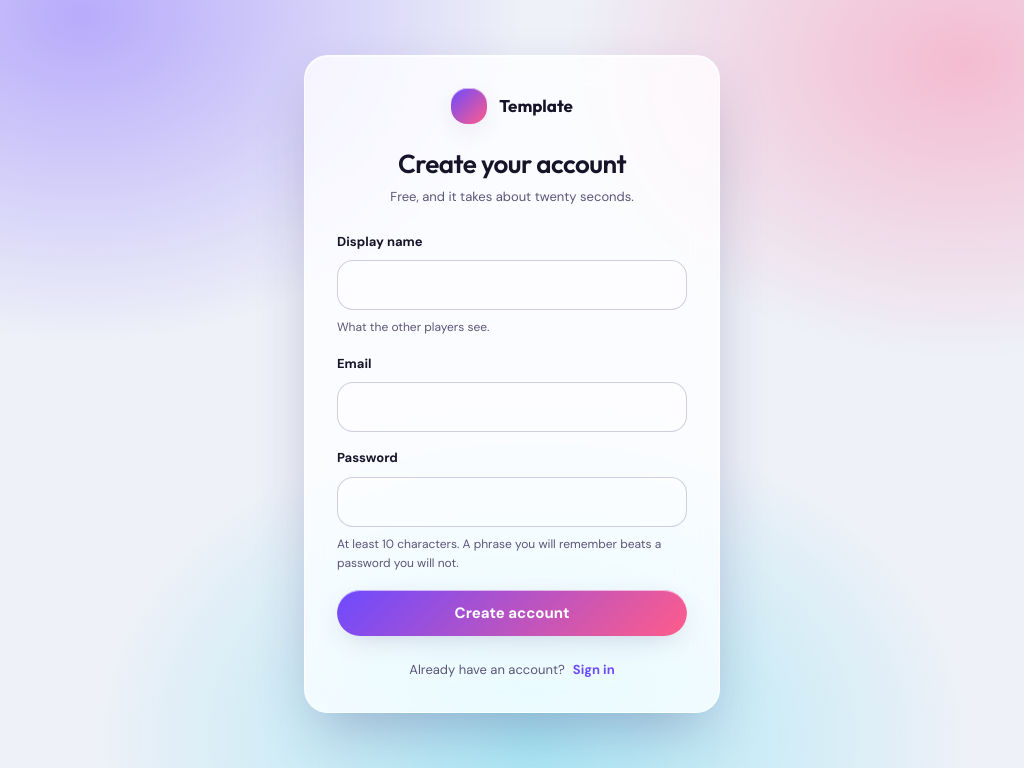
Test case: server errors › ★ maps fieldErrors onto the right input, not onto the form
Type "Administrator" into the field labelled "Display name".
click(512, 285); type("Administrator")  # box [337, 260, 687, 310]
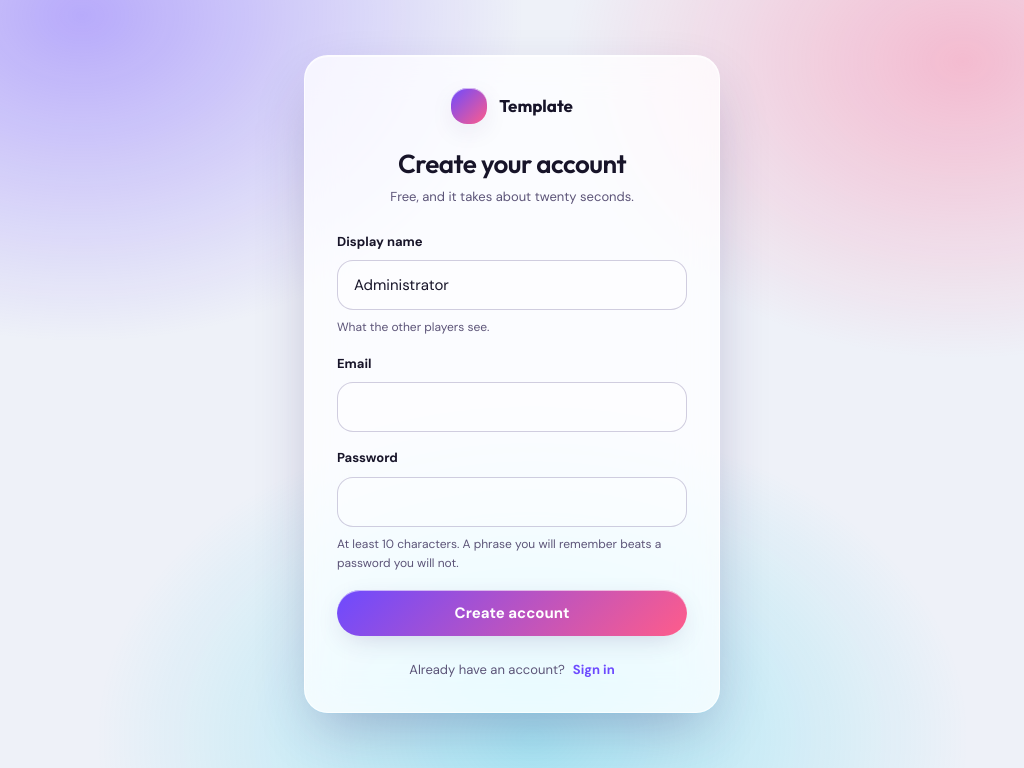
Type "me@test.dev" into the field labelled "Email".
click(512, 407); type("me@test.dev")  # box [337, 382, 687, 432]
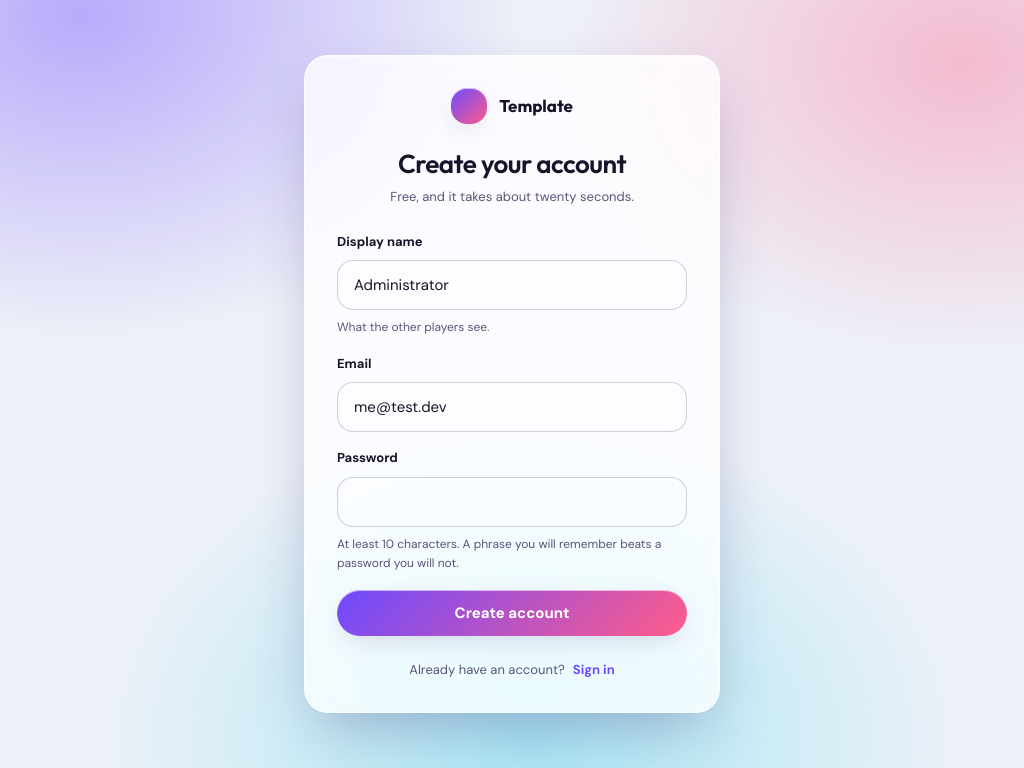
Type "correct-horse-battery" into the password field labelled "Password".
click(512, 502); type("correct-horse-battery")  # box [337, 477, 687, 527]
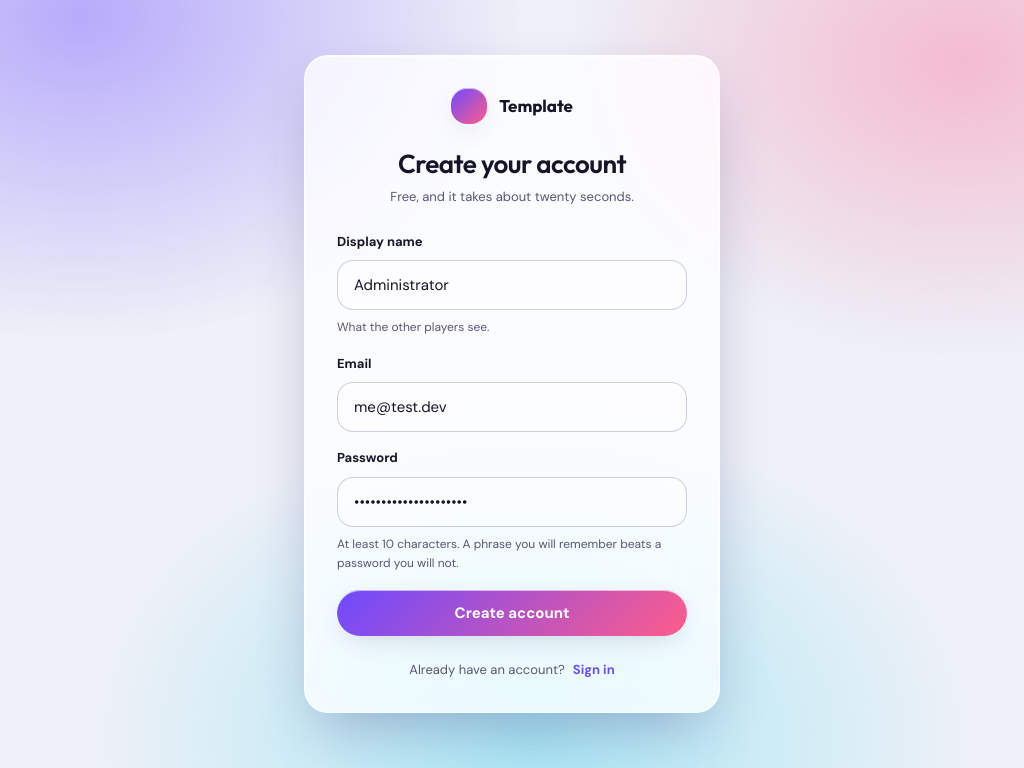
Submit the form from the button "Create account", box [337, 590, 687, 636]
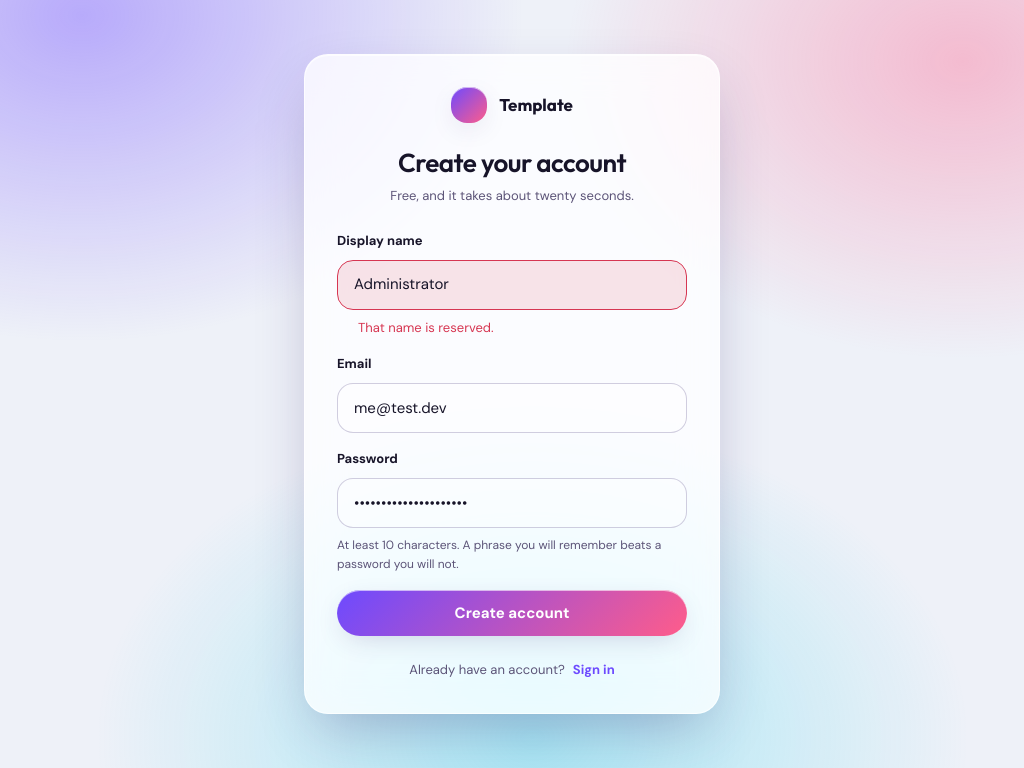
Now the text "That name is reserved." is shown, box [358, 318, 494, 338]
